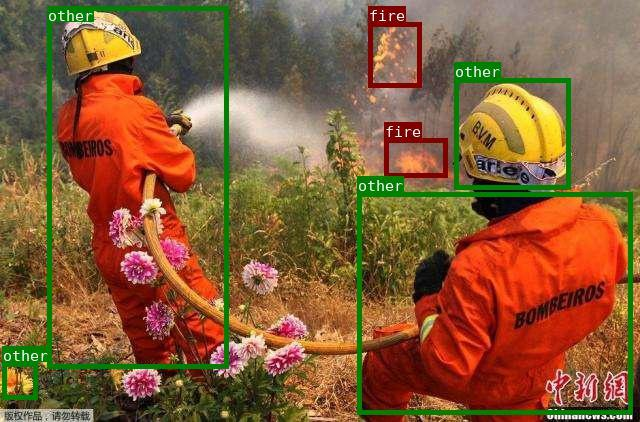fire: (367, 22, 421, 86), (384, 138, 447, 176)
other: (47, 5, 228, 368), (356, 191, 631, 414), (454, 77, 570, 188), (1, 362, 37, 398)
